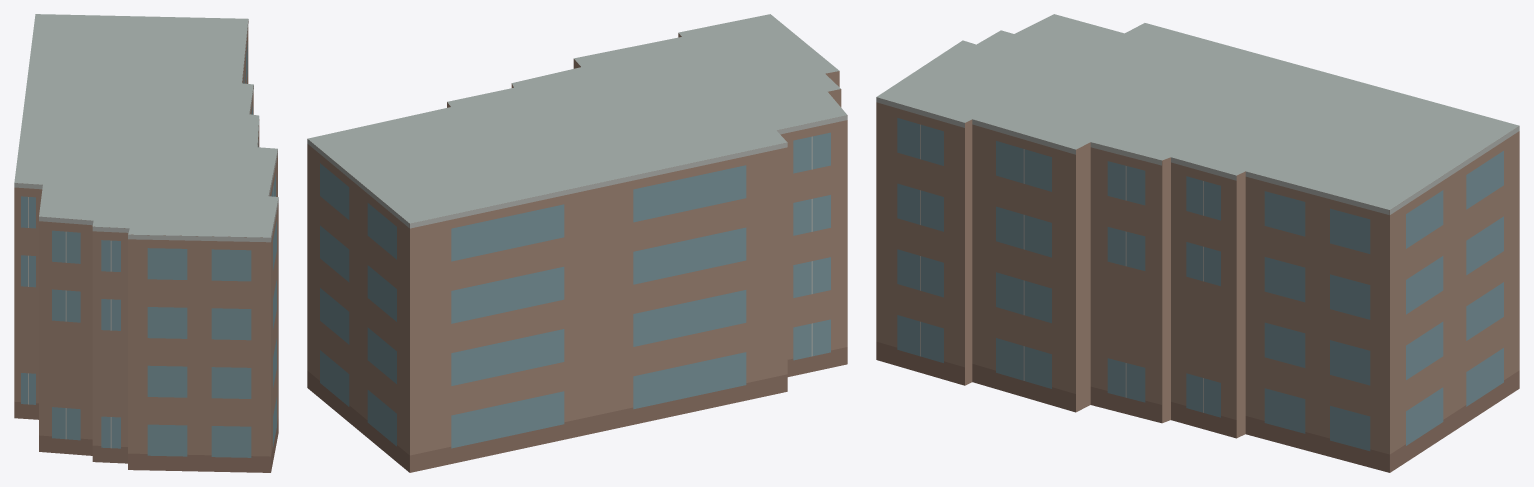
Rendered from survey-upis-32554647.glb.
3 renders of one model, left to right at view 1: azimuth 30°, elevation 25°; view 2: azimuth 150°, elevation 25°; view 3: azimuth 270°, elevation 25°, orthographic. The views are drawn at different scales.
Visible parts, largest first — view 1: survey-upis-32554647.tmp; view 2: survey-upis-32554647.tmp; view 3: survey-upis-32554647.tmp.
Part boxes in pixels (<box>): survey-upis-32554647.tmp: <box>14,14,278,472</box>; survey-upis-32554647.tmp: <box>307,14,847,472</box>; survey-upis-32554647.tmp: <box>876,14,1519,472</box>.
Bounding box in the file's own units: 19.85 × 12.4 × 27.52.
